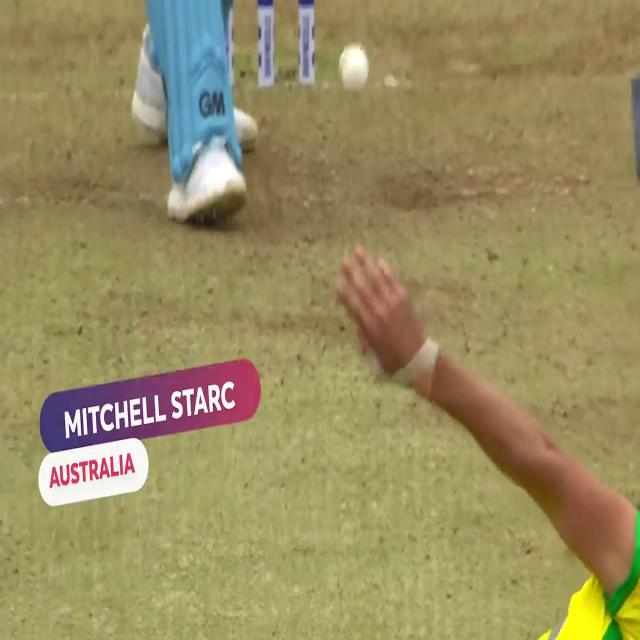ball: (336, 35, 372, 96)
